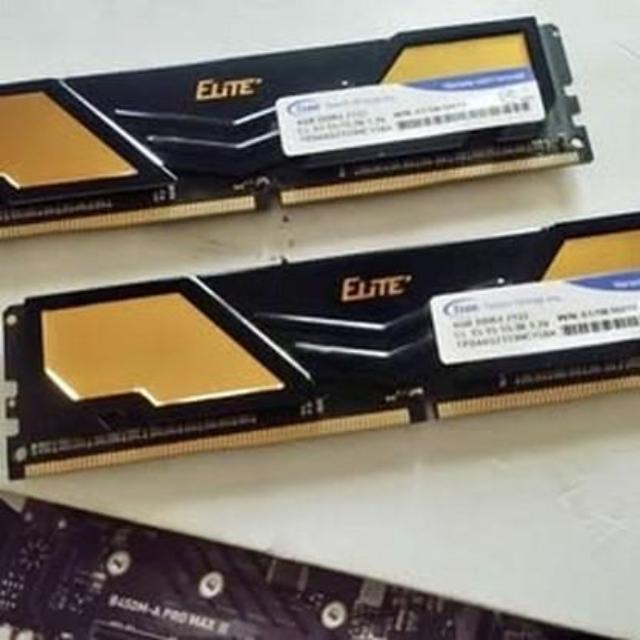RAM: (0, 232, 640, 496), (0, 14, 600, 246)
